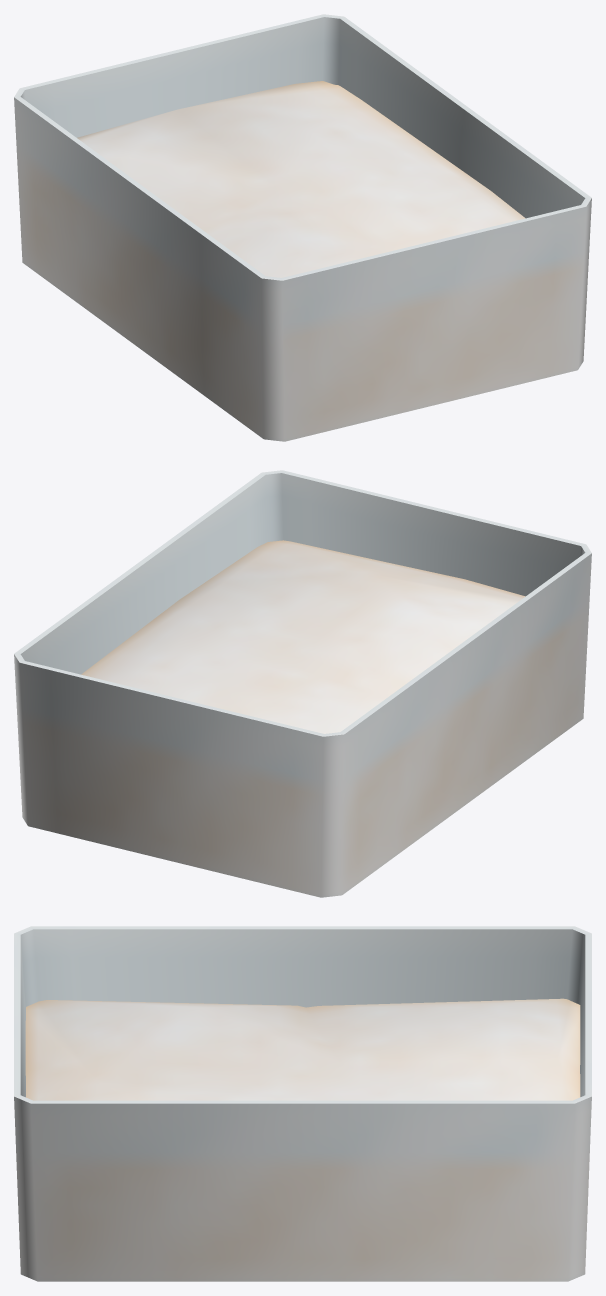
Rendered from jsf_Ingredient_RawSugar_01.fbx.
3 renders of one model, top to bottom at view 1: azimuth 30°, elevation 25°; view 2: azimuth 150°, elevation 25°; view 3: azimuth 270°, elevation 25°, orthographic. The views are drawn at different scales.
Visible parts, largest first — view 1: jsf_Ingredient_RawSugar_01; view 2: jsf_Ingredient_RawSugar_01; view 3: jsf_Ingredient_RawSugar_01.
Boxes of the visible parts, bbox=[...] form: jsf_Ingredient_RawSugar_01: bbox=[14, 14, 591, 441]; jsf_Ingredient_RawSugar_01: bbox=[14, 470, 591, 897]; jsf_Ingredient_RawSugar_01: bbox=[14, 926, 591, 1281].
Bounding box in the file's own units: 13.88 × 6.6 × 19.12.
